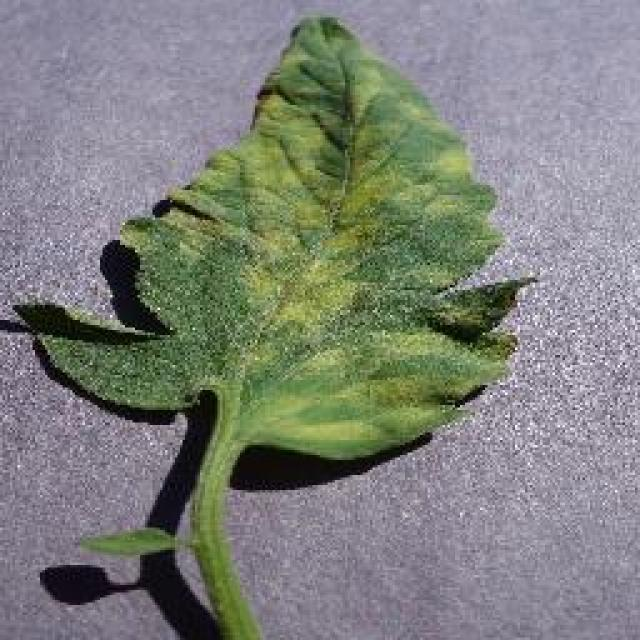Tomato mold leaf: (21, 12, 531, 468)
